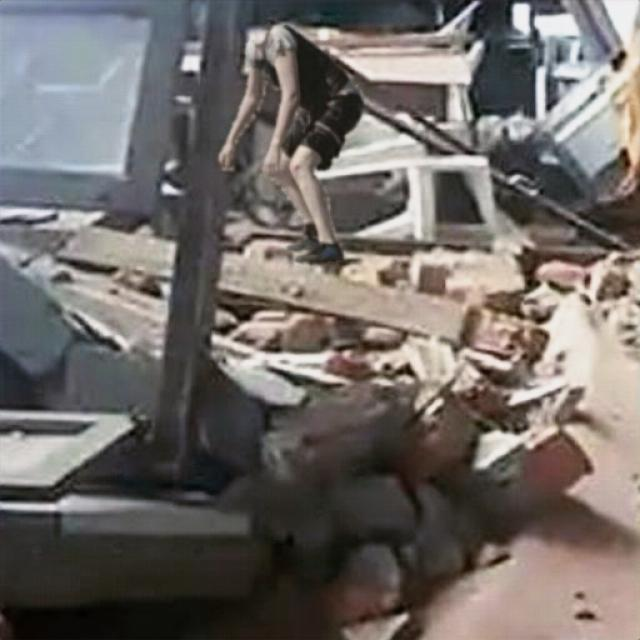Person in Rubble: (218, 18, 364, 264)
